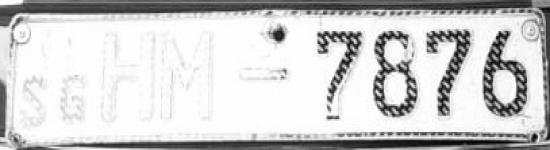-: (234, 61, 295, 90)
6: (476, 23, 533, 124)
7: (310, 26, 372, 125), (421, 23, 477, 124)
8: (371, 24, 420, 123)
G: (56, 69, 94, 132)
H: (99, 26, 158, 134)
M: (158, 23, 226, 133)
S: (15, 72, 54, 131)
